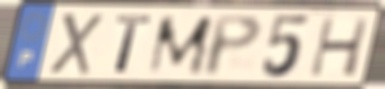5: (261, 12, 315, 81)
H: (307, 15, 372, 79)
M: (144, 13, 217, 78)
P: (202, 13, 265, 79)
T: (113, 13, 155, 76)
X: (46, 11, 104, 78)
